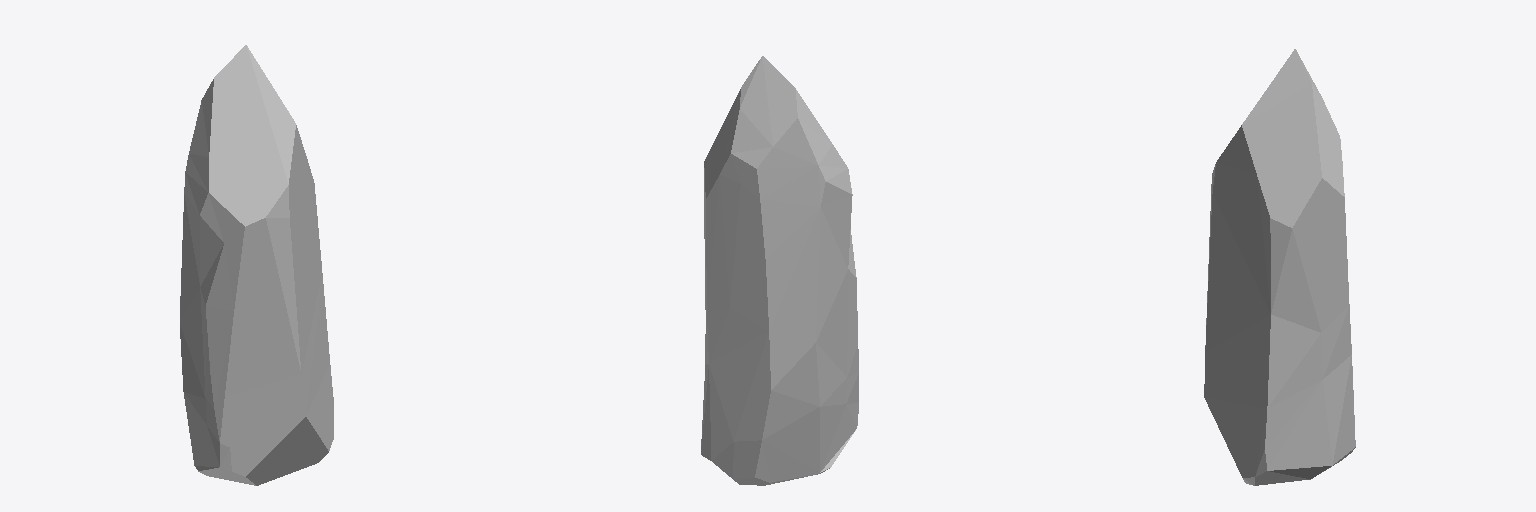
Rendered from crystal2.obj.
The picture shows the model from 3 angles: view 1: azimuth 30°, elevation 25°; view 2: azimuth 150°, elevation 25°; view 3: azimuth 270°, elevation 25°; orthographic projection.
Visible parts, largest first — view 1: gem.002; view 2: gem.002; view 3: gem.002.
Boxes of the visible parts, <box> form: gem.002: <box>180,45,333,485</box>; gem.002: <box>701,56,858,485</box>; gem.002: <box>1204,49,1355,485</box>.
Size of the model in its own units: 0.2339 by 0.6557 by 0.218.